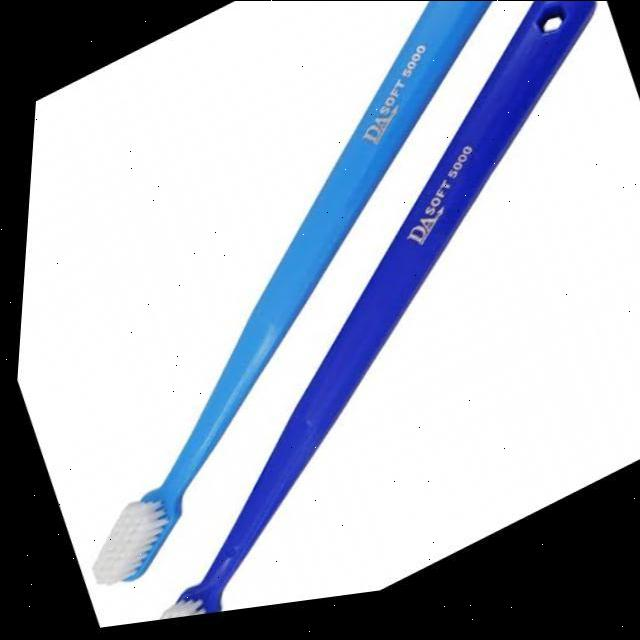toothbrush: (157, 0, 592, 624), (86, 0, 498, 608)
